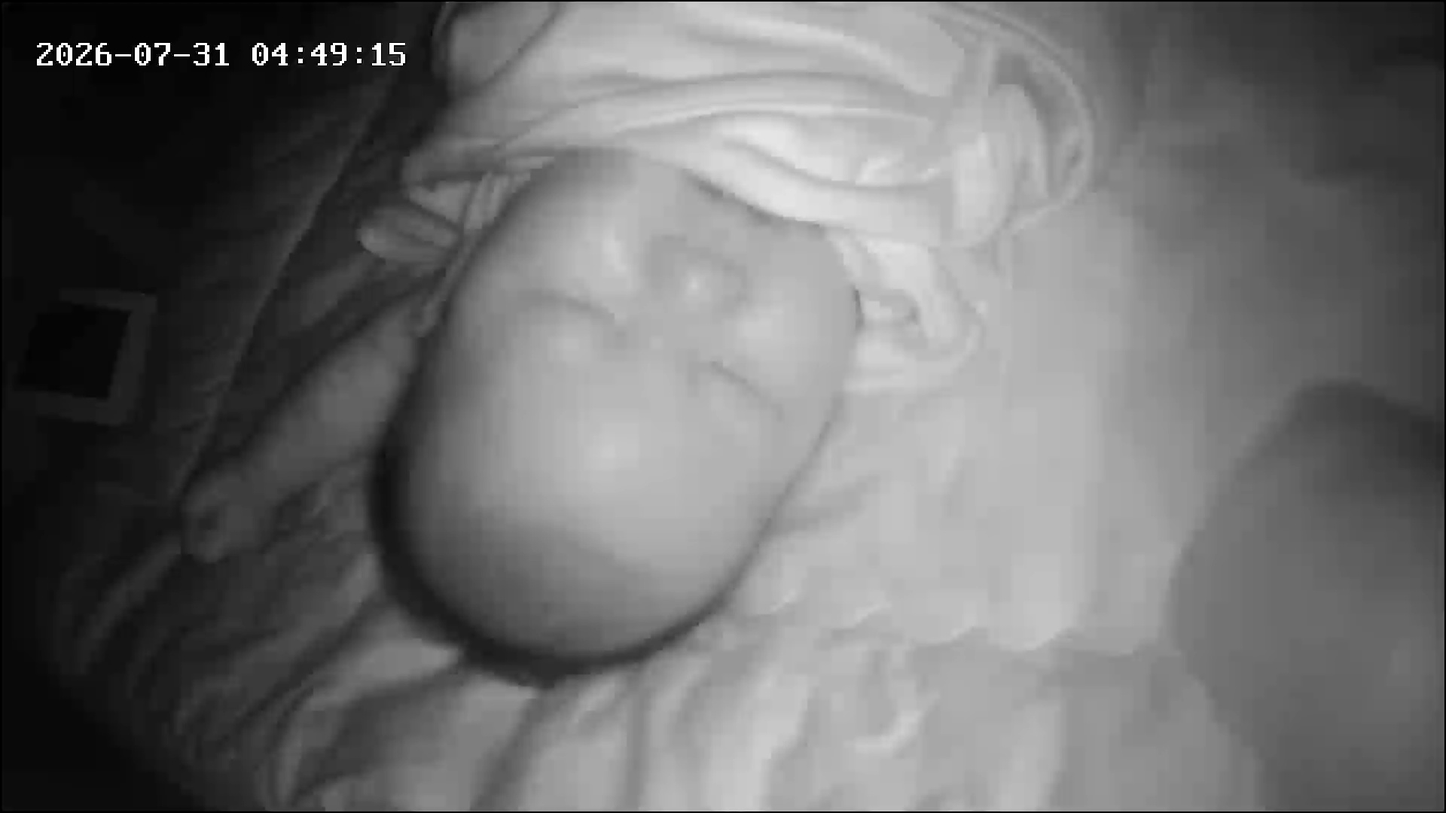baby: (328, 0, 1122, 687)
baby_face: (366, 151, 883, 672)
